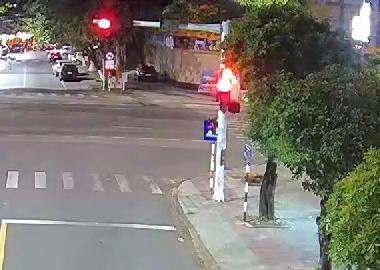red_light: (214, 58, 241, 113), (96, 13, 121, 36)
stop_line: (2, 215, 189, 233)
